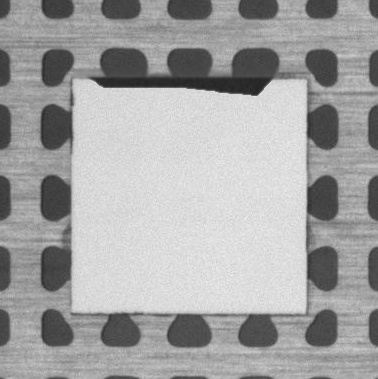DIE_BROKEN: (92, 71, 275, 97)
